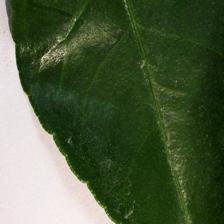healthy: (6, 0, 223, 224)
